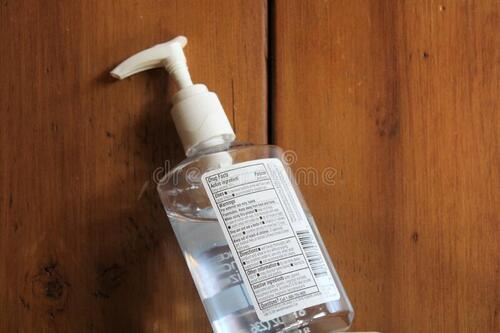sanitizer: (108, 30, 334, 320)
